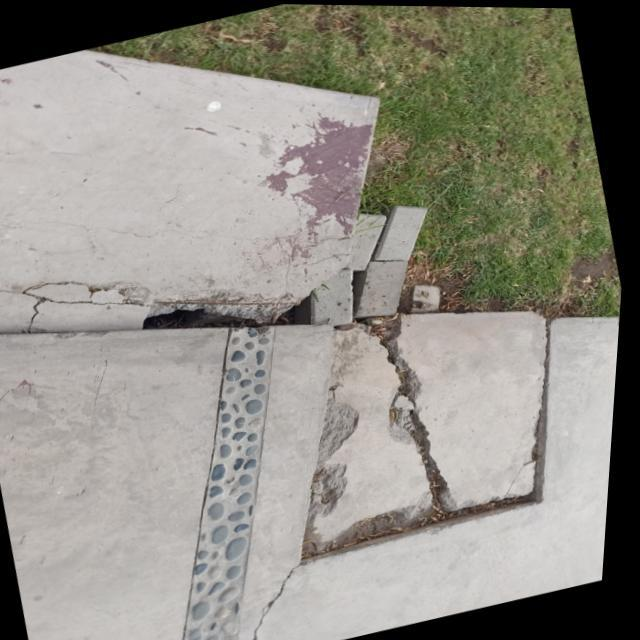hole: (132, 260, 326, 366)
